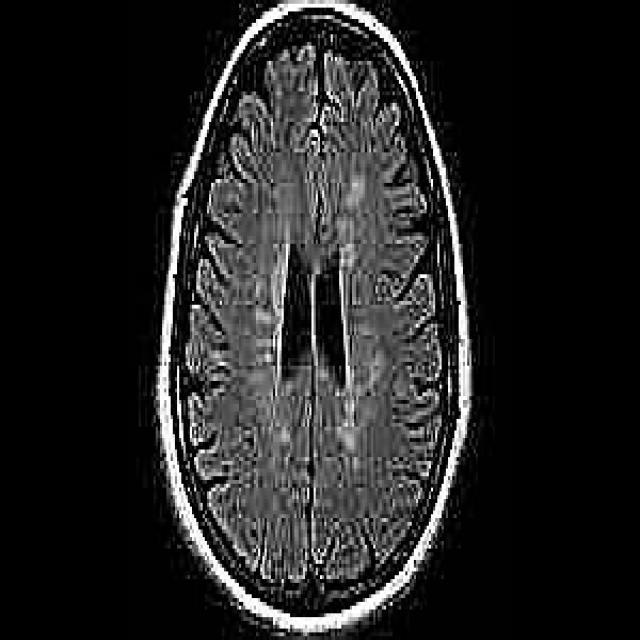notumor: (154, 4, 469, 632)
